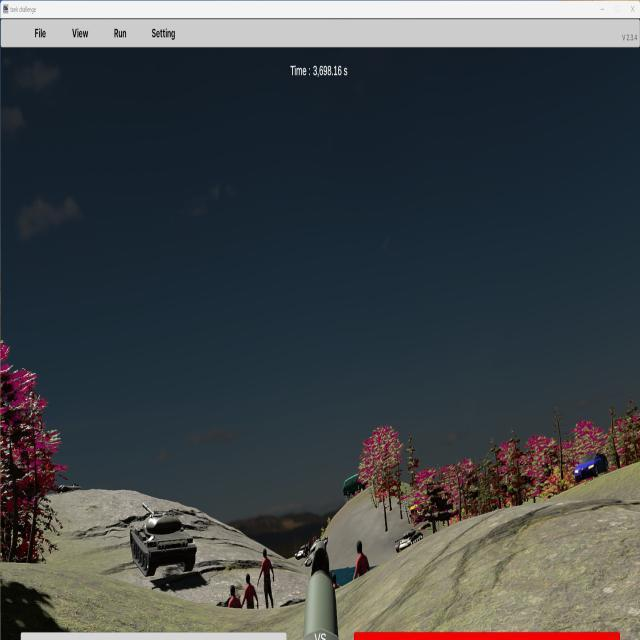Tank: (130, 503, 197, 577)
car: (574, 451, 609, 483)
